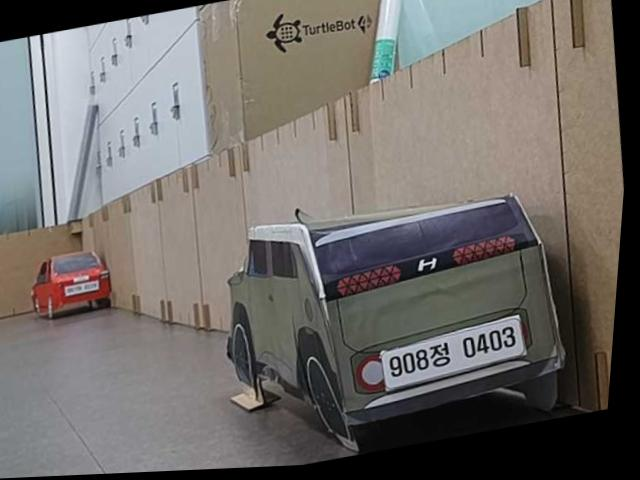car: (201, 168, 587, 469), (24, 244, 118, 323)
id: (378, 315, 532, 392), (64, 278, 101, 296)
